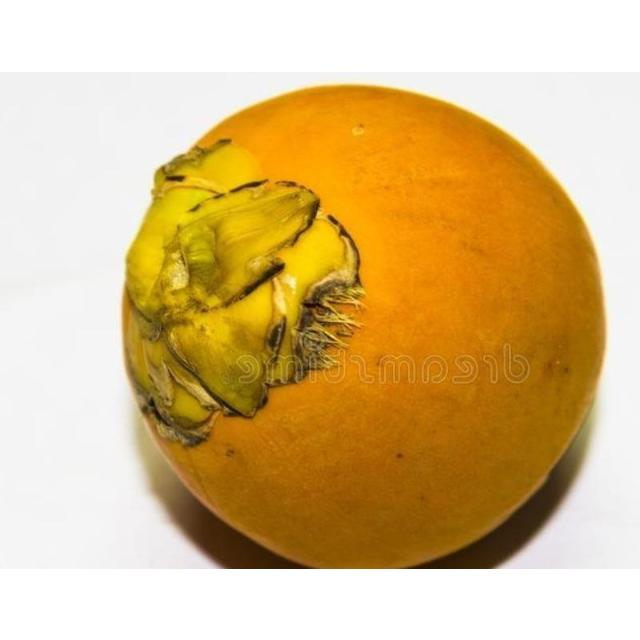good: (124, 83, 610, 568)
